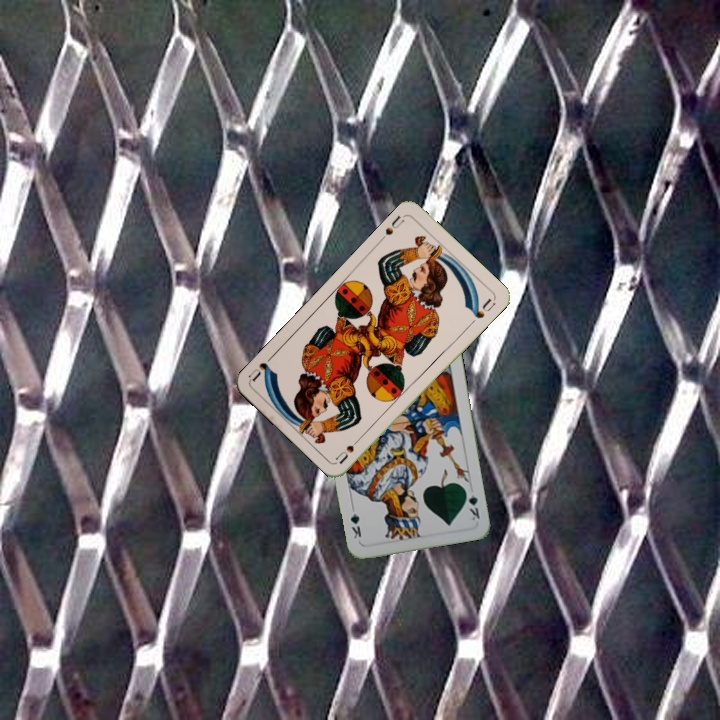GK: (461, 484, 482, 523)
SU: (332, 431, 366, 466), (381, 211, 407, 238)
